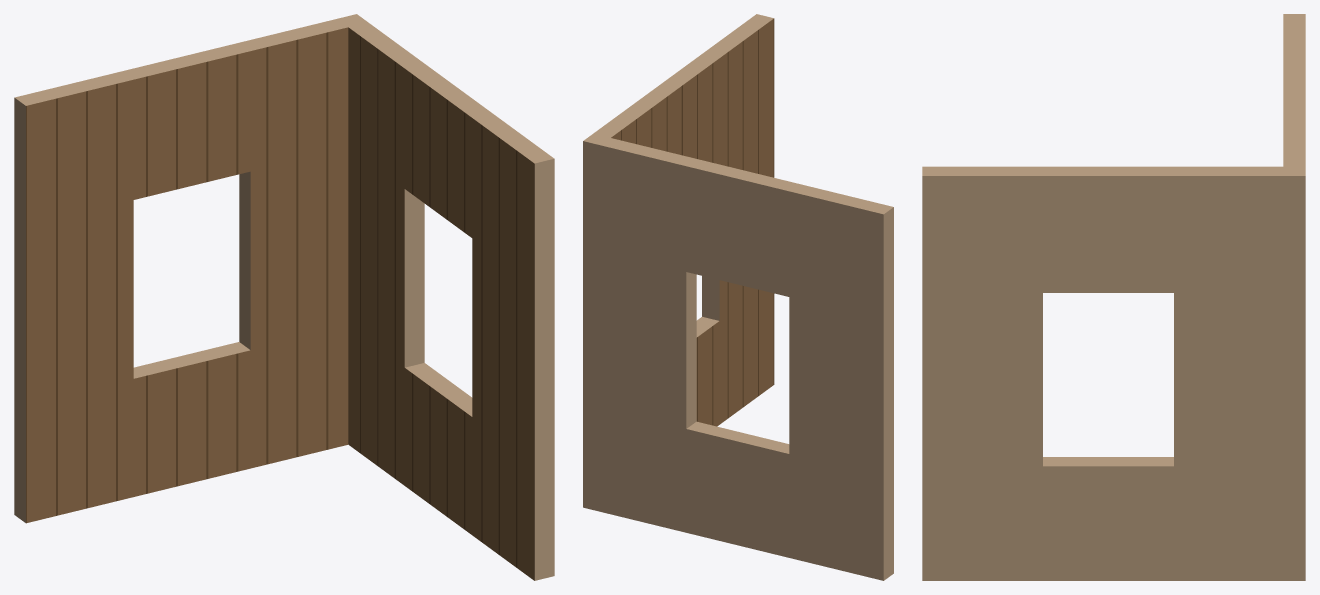
Rendered from Wall2_C9_09.fbx.
The picture shows the model from 3 angles, left to right: view 1: azimuth 30°, elevation 25°; view 2: azimuth 150°, elevation 25°; view 3: azimuth 270°, elevation 25°; orthographic projection. The views are drawn at different scales.
Visible parts, largest first — view 1: Wall2_C9_09; view 2: Wall2_C9_09; view 3: Wall2_C9_09.
Part boxes in pixels (x1,y1,x2,y2): Wall2_C9_09: [14, 14, 554, 580]; Wall2_C9_09: [583, 14, 893, 580]; Wall2_C9_09: [922, 14, 1305, 580].
Bounding box in the file's own units: 258 × 300 × 258.
